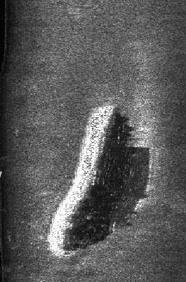ship: (46, 103, 125, 260)
